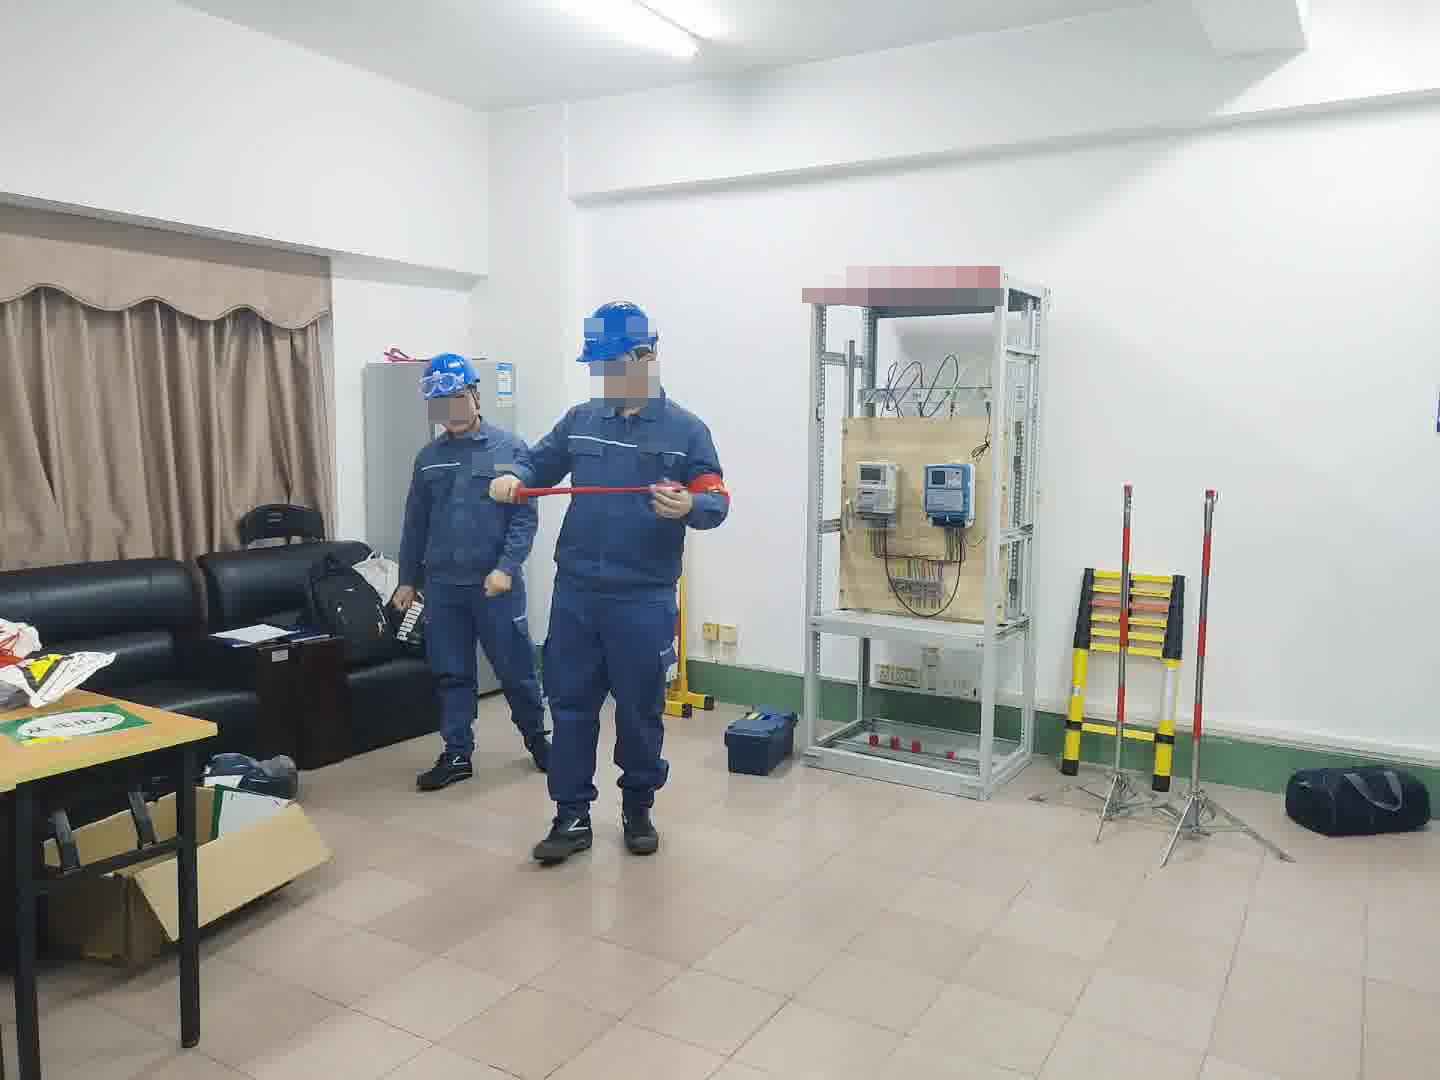badge: (685, 472, 730, 504)
downsuit: (541, 616, 679, 813), (423, 605, 545, 761)
halt: (578, 300, 664, 405), (421, 351, 485, 429)
hand: (641, 481, 689, 526), (487, 473, 543, 507), (483, 566, 524, 599), (392, 586, 419, 613)
inear: (615, 347, 656, 400)
person: (526, 300, 732, 854), (393, 352, 541, 791)
testrod: (505, 466, 693, 509)
upsuit: (539, 389, 730, 594), (398, 429, 534, 589)
